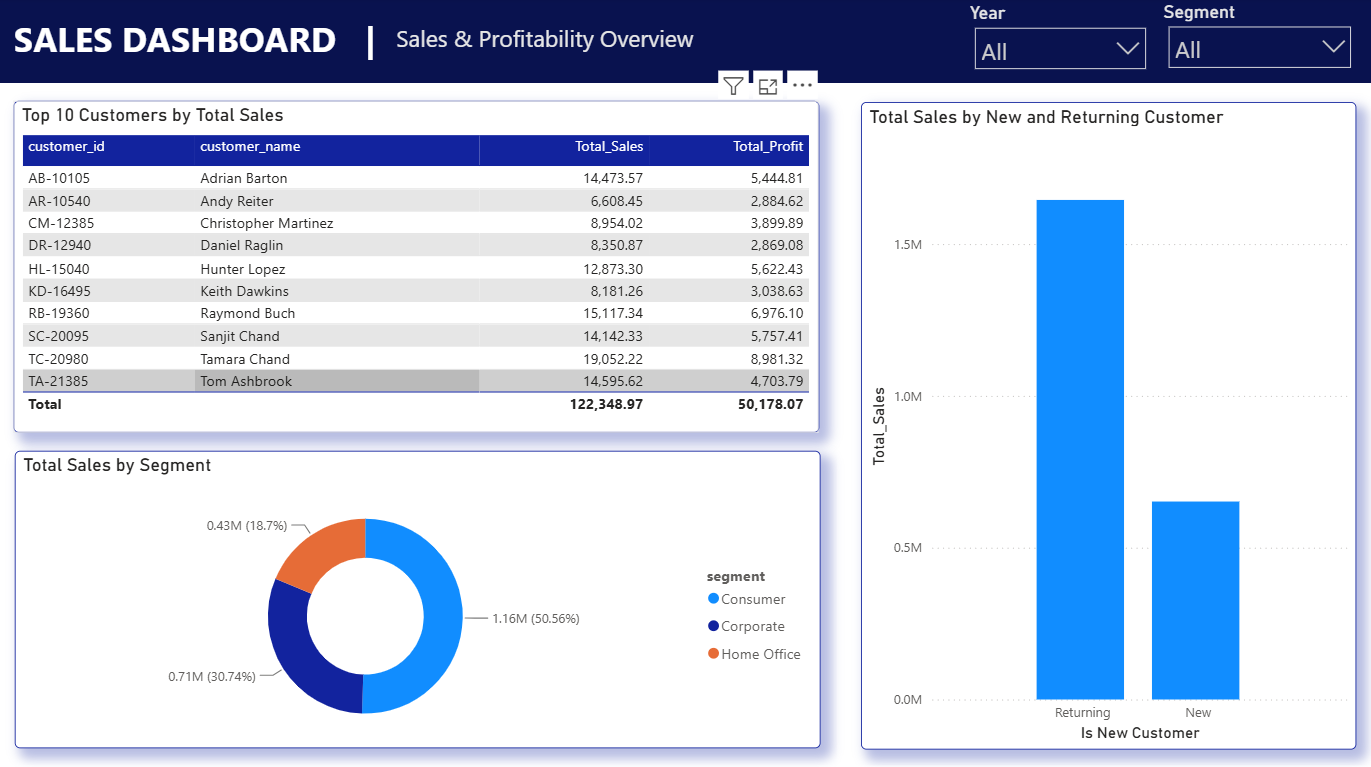

What the dashboard file says about the page in this screenshot:
{"tool":"powerbi","page":{"name":"Customer Insights","canvas":[1280,720],"ordinal":2},"visuals":[{"type":"shape","box":[0,0,1279.5,80],"z":0},{"type":"textbox","box":[11.2,11.2,375.4,55.9],"z":1000},{"type":"textbox","box":[368,19,348.7,43.6],"z":2000},{"type":"slicer","title":"Year","fields":{"Values":["Dim_Date.Year"]},"box":[906.1,4.9,168.8,67.3],"z":3000},{"type":"slicer","title":"Segment","fields":{"Values":["Dim_Customer.segment"]},"box":[1085.9,3.7,179.8,75.8],"z":4000},{"type":"tableEx","title":"Top 10 Customers by Total Sales","fields":{"Values":["Dim_Customer.customer_id","Dim_Customer.customer_name","Fact_Orders.Total_Sales","Fact_Orders.Total_Profit"]},"box":[16,97,749.2,308.7],"z":4002},{"type":"clusteredColumnChart","title":"Total Sales by New and Returning Customer","fields":{"Category":["Fact_Orders.Is New Customer"],"Y":["Fact_Orders.Total_Sales"]},"box":[804.1,97.4,461.1,602.4],"z":4003},{"type":"donutChart","title":"Total Sales by Segment","fields":{"Category":["Dim_Customer.segment"],"Y":["Fact_Orders.Total_Sales"]},"box":[18,422.6,749.2,277.2],"z":4004}]}

Visuals, with their boxes in screenshot pixels (x1, y1, x2, y2), scaled from the page's 1280x720 canvas onto the 1371x767 screenshot:
shape: [0,0,1370,85]
textbox: [12,12,414,71]
textbox: [394,20,768,67]
"Year" slicer: [971,5,1151,77]
"Segment" slicer: [1163,4,1356,85]
"Top 10 Customers by Total Sales" tableEx: [17,103,820,432]
"Total Sales by New and Returning Customer" clusteredColumnChart: [861,104,1355,745]
"Total Sales by Segment" donutChart: [19,450,822,745]
